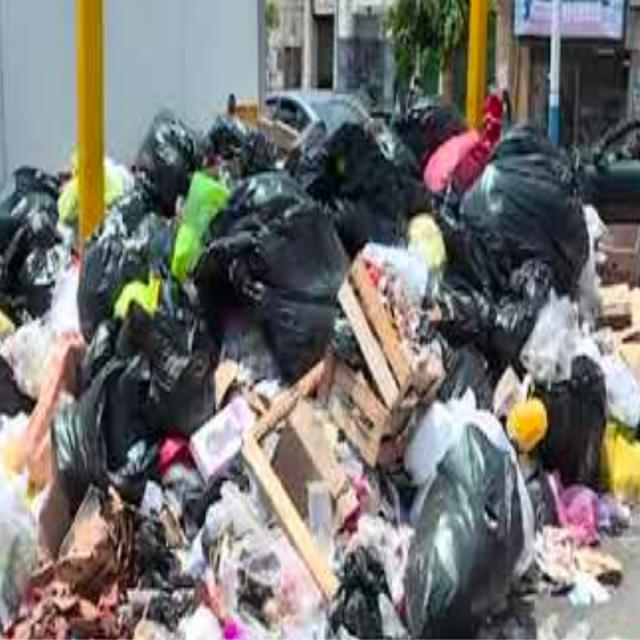garbage: (3, 80, 616, 640)
